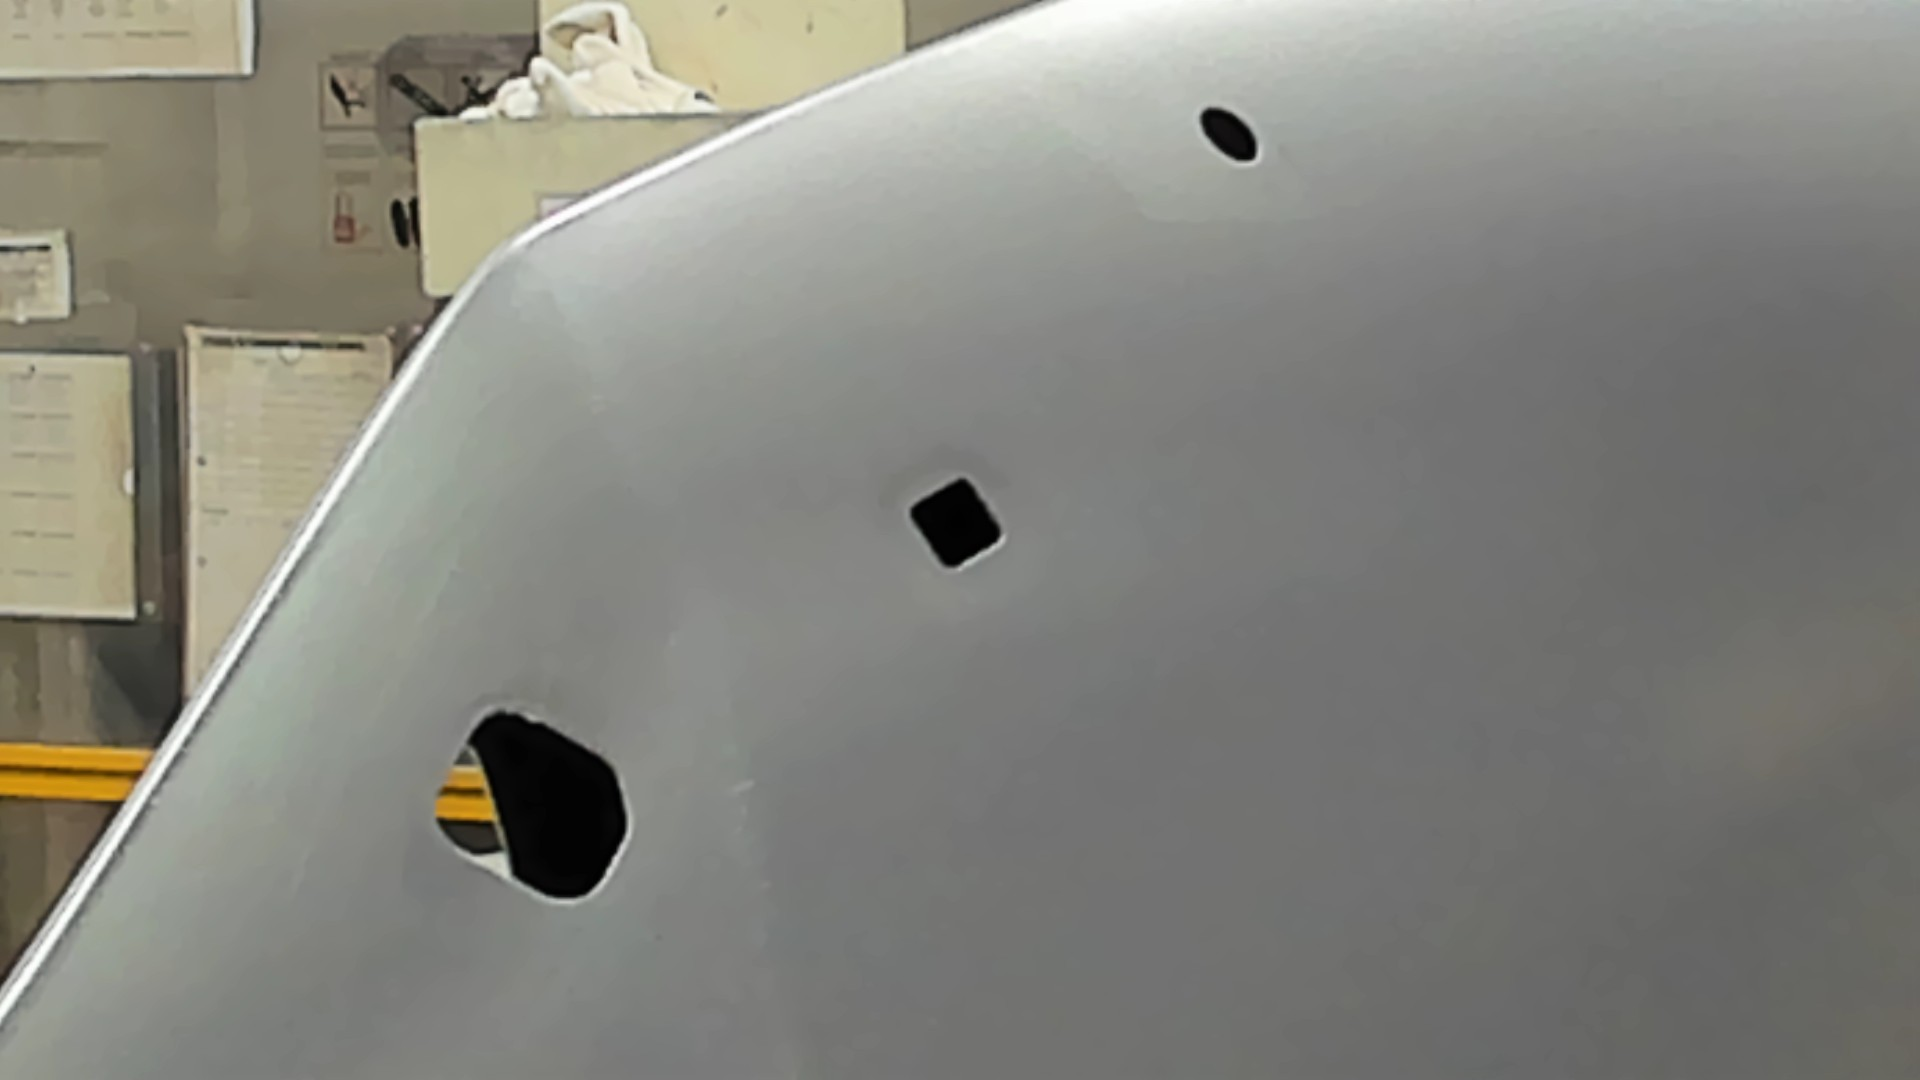chico: (1195, 103, 1265, 166)
grande: (433, 707, 634, 909)
mediano: (906, 475, 1007, 576)
